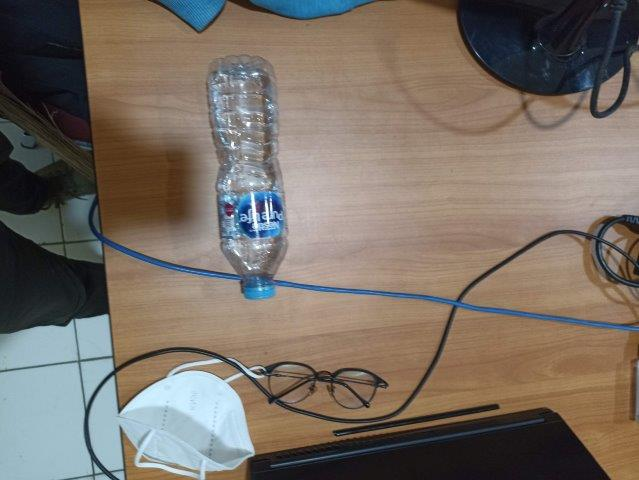botolplastik: (211, 54, 289, 297)
